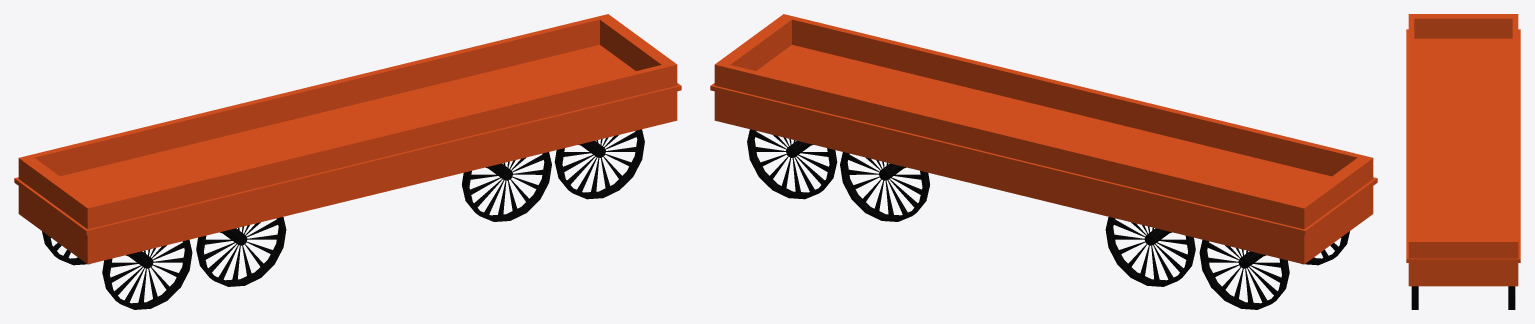
The model's file is train_car.gltf.
The picture shows the model from 3 angles, left to right: view 1: azimuth 30°, elevation 25°; view 2: azimuth 150°, elevation 25°; view 3: azimuth 270°, elevation 25°; orthographic projection. The views are drawn at different scales.
Parts seen in each view (by area): view 1: Cube, Cylinder.001, Cylinder.002, Cylinder.003, Cylinder.004; view 2: Cube, Cylinder.001, Cylinder.002, Cylinder.003, Cylinder.004; view 3: Cube, Cylinder.004.
Part boxes in pixels (box(x1,y1,x2,y2)): Cube: box(14, 14, 681, 264); Cylinder.001: box(42, 231, 192, 309); Cylinder.002: box(196, 217, 286, 286); Cylinder.003: box(462, 152, 551, 221); Cylinder.004: box(554, 129, 644, 199); Cube: box(710, 14, 1377, 264); Cylinder.001: box(1199, 231, 1349, 309); Cylinder.002: box(1105, 217, 1195, 286); Cylinder.003: box(840, 152, 929, 221); Cylinder.004: box(747, 129, 837, 199); Cube: box(1406, 14, 1520, 286); Cylinder.004: box(1411, 286, 1515, 309).
Bounding box in the file's own units: 5.04 × 0.9505 × 1.06.
